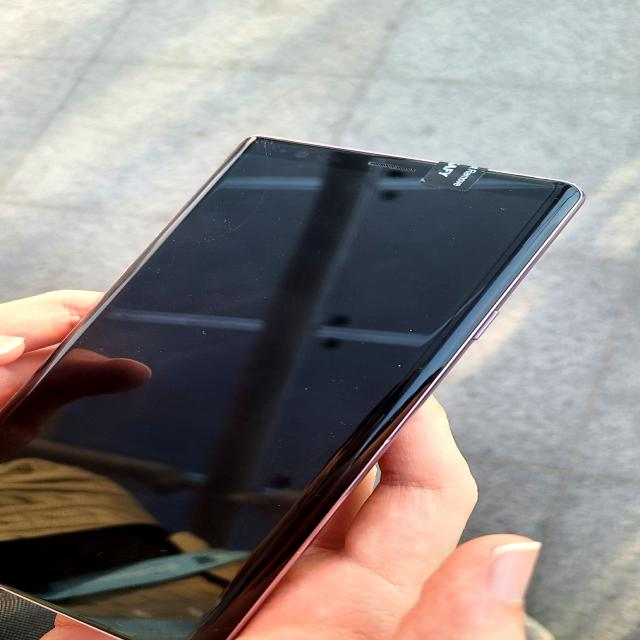phone: (9, 130, 582, 640)
sticker: (419, 158, 487, 192)
